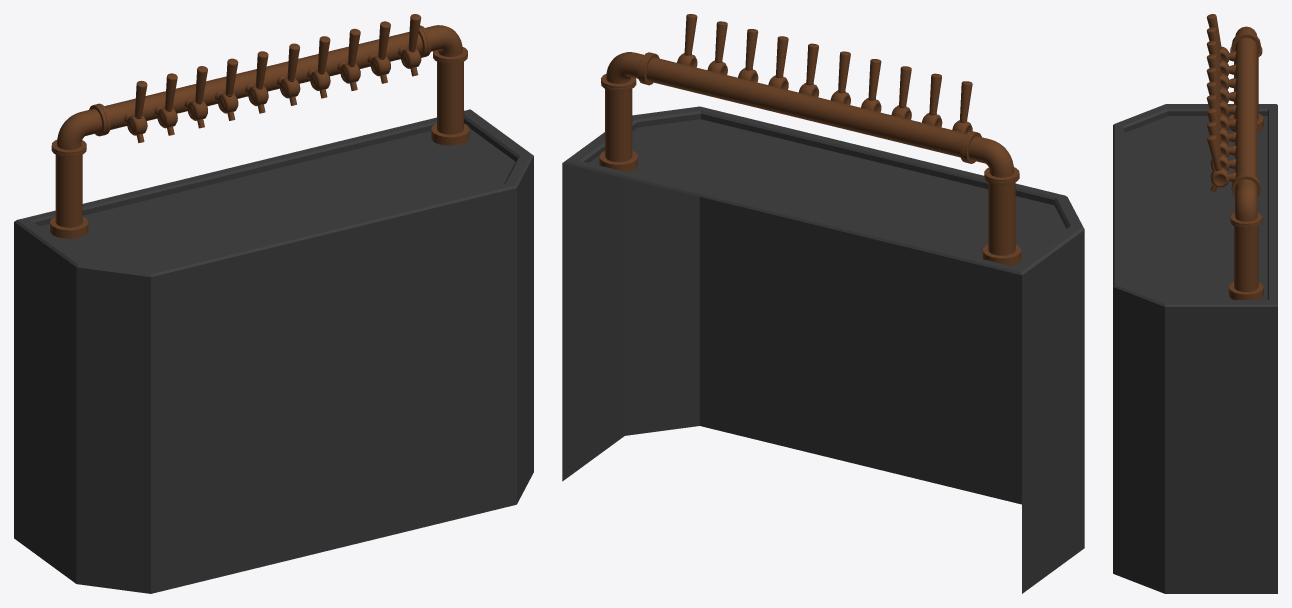
The model's file is barcounter.fbx.
The picture shows the model from 3 angles, left to right: view 1: azimuth 30°, elevation 25°; view 2: azimuth 150°, elevation 25°; view 3: azimuth 270°, elevation 25°; orthographic projection. The views are drawn at different scales.
Parts seen in each view (by area): view 1: beerchamber; view 2: beerchamber; view 3: beerchamber.
Part boxes in pixels (x1=…): beerchamber: x1=14, y1=14, x2=533, y2=593; beerchamber: x1=562, y1=14, x2=1084, y2=593; beerchamber: x1=1113, y1=14, x2=1277, y2=593.
Size of the model in its own units: 131 by 126 by 45.15.
